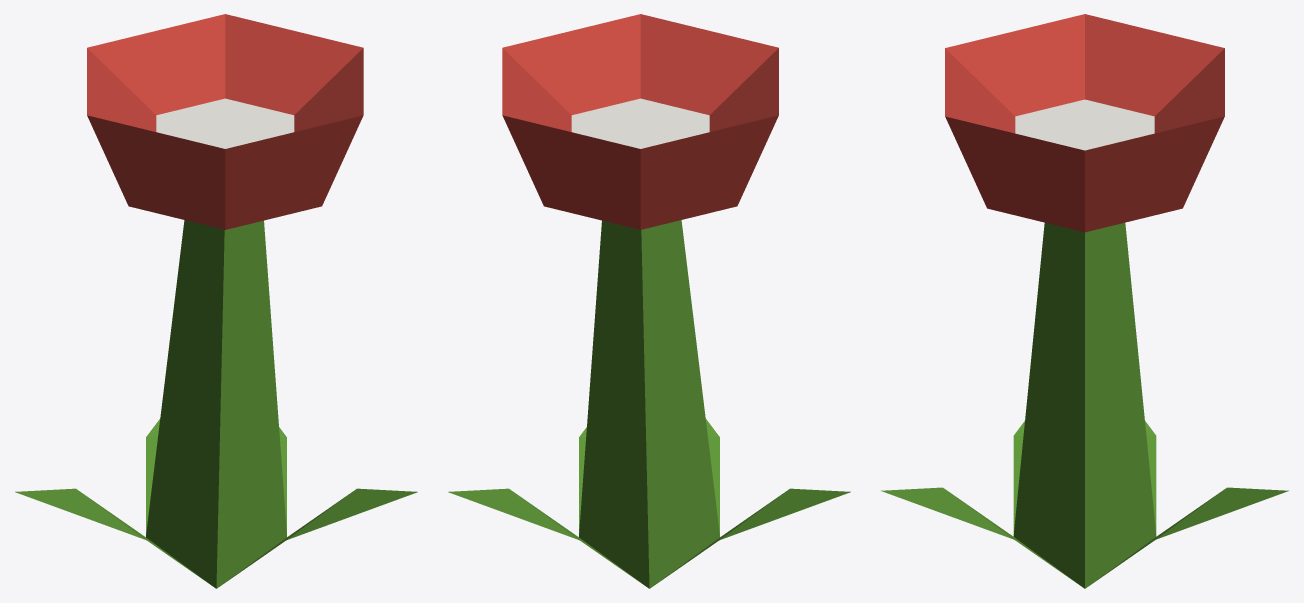
Rendered from flower_red2.glb.
3 views of the same model, side by side, from view 1: azimuth 30°, elevation 25°; view 2: azimuth 150°, elevation 25°; view 3: azimuth 270°, elevation 25° (orthographic).
Visible parts, largest first — view 1: flower_redC; view 2: flower_redC; view 3: flower_redC.
Boxes of the visible parts, x1,y1,x2,y2 form: flower_redC: (15,14,417,588); flower_redC: (448,14,850,588); flower_redC: (881,14,1288,588).
Size of the model in its own units: 0.3495 by 0.45 by 0.3505.
